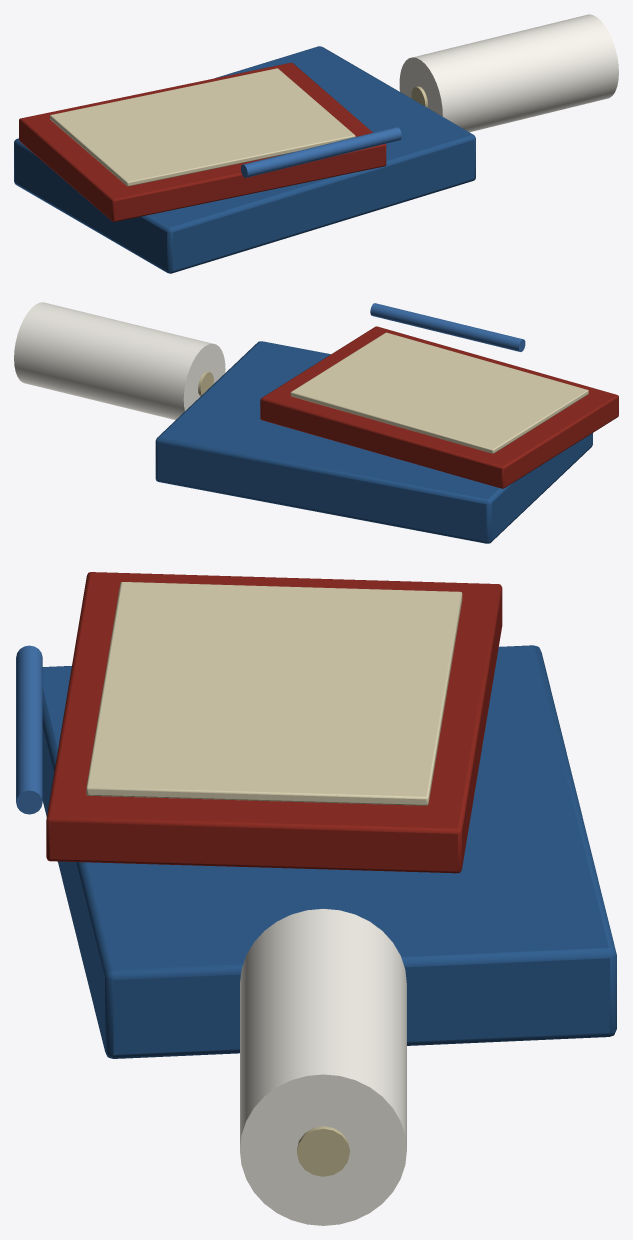
File: SoHoaDon_Quay.glb
The picture shows the model from 3 angles, top to bottom: view 1: azimuth 30°, elevation 25°; view 2: azimuth 150°, elevation 25°; view 3: azimuth 270°, elevation 25°; orthographic projection. The views are drawn at different scales.
Parts seen in each view (by area): view 1: SoHoaDon_Quay; view 2: SoHoaDon_Quay; view 3: SoHoaDon_Quay.
Part boxes in pixels (box(x1,y1,x2,y2)): SoHoaDon_Quay: box(14, 14, 618, 273); SoHoaDon_Quay: box(14, 302, 618, 543); SoHoaDon_Quay: box(16, 572, 616, 1225).
Bounding box in the file's own units: 0.498 × 0.0804 × 0.2452.
